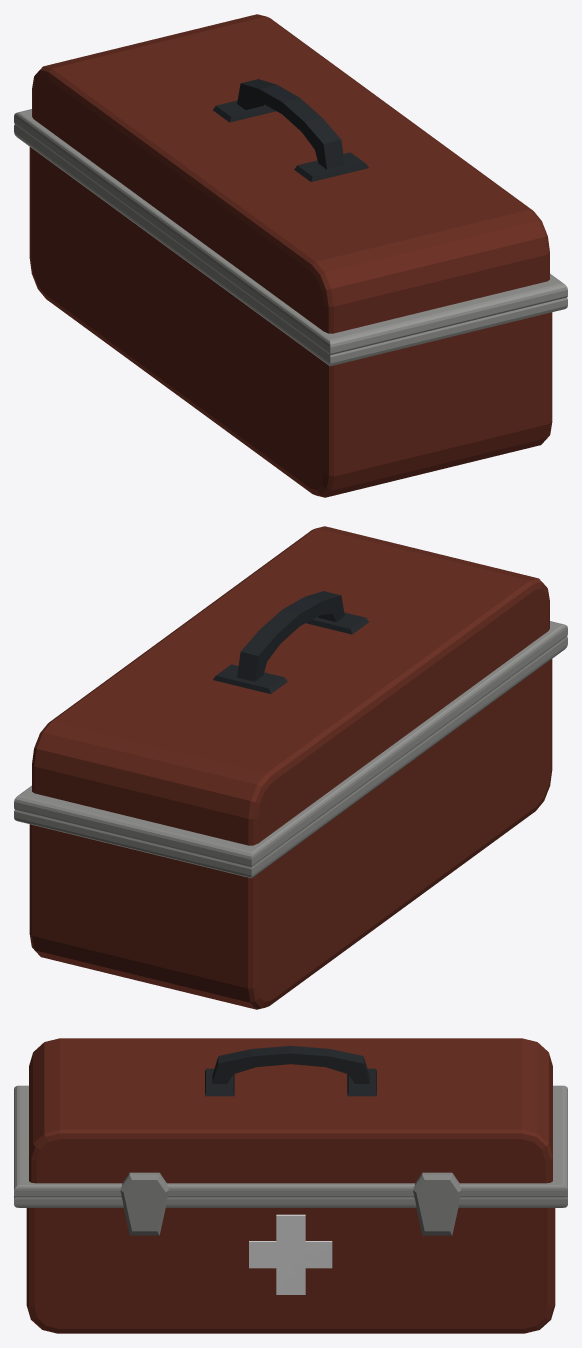
File: aidkit.fbx
3 views of the same model, one above another, from view 1: azimuth 30°, elevation 25°; view 2: azimuth 150°, elevation 25°; view 3: azimuth 270°, elevation 25° (orthographic). The views are drawn at different scales.
Parts seen in each view (by area): view 1: Plane, Plane.001; view 2: Plane, Plane.001; view 3: Plane, Plane.002, Plane.001, Plane.003.
Part boxes in pixels (<box>): Plane: <box>14,14,567,497</box>; Plane.001: <box>213,79,368,181</box>; Plane: <box>14,526,567,1009</box>; Plane.001: <box>213,591,368,693</box>; Plane: <box>14,1038,567,1333</box>; Plane.002: <box>120,1172,461,1235</box>; Plane.001: <box>205,1046,376,1096</box>; Plane.003: <box>249,1214,332,1294</box>.
Size of the model in its own units: 91.9 by 99.33 by 210.
